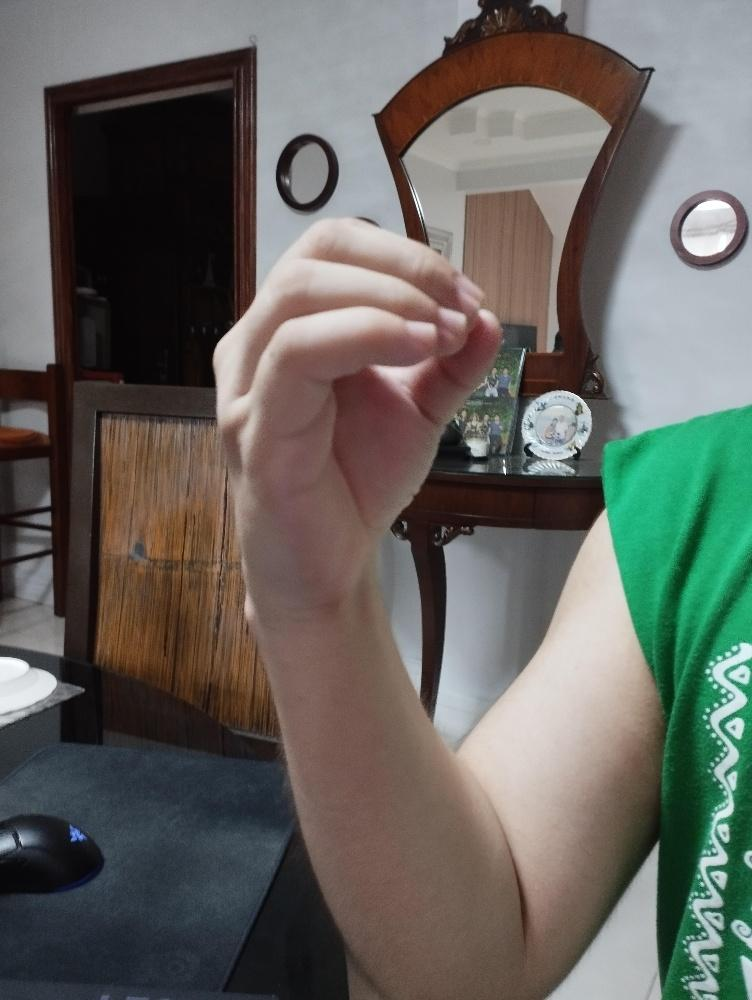o: (210, 213, 504, 608)
